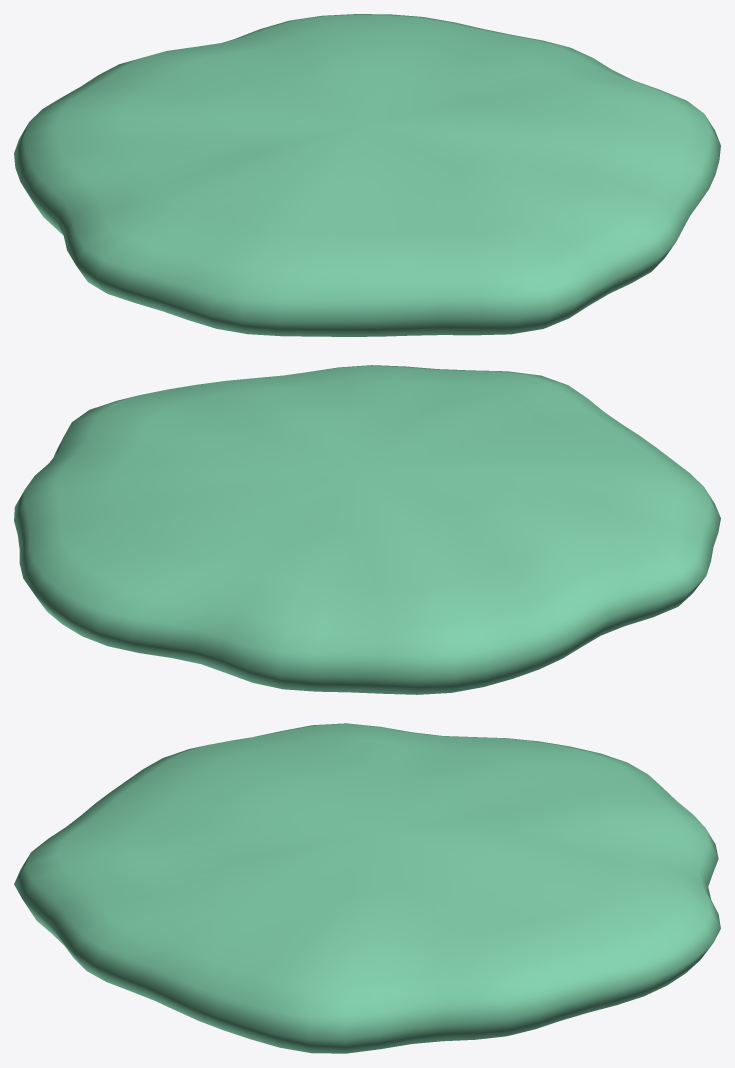
File: candy-pool-volume.glb
3 renders of one model, top to bottom at view 1: azimuth 30°, elevation 25°; view 2: azimuth 150°, elevation 25°; view 3: azimuth 270°, elevation 25°, orthographic.
Parts seen in each view (by area): view 1: Closed irregular domed pool; view 2: Closed irregular domed pool; view 3: Closed irregular domed pool.
Boxes of the visible parts, <box> form: Closed irregular domed pool: <box>14,14,720,336</box>; Closed irregular domed pool: <box>14,365,720,694</box>; Closed irregular domed pool: <box>14,723,720,1053</box>.
Bounding box in the file's own units: 1.03 × 0.163 × 1.02.
